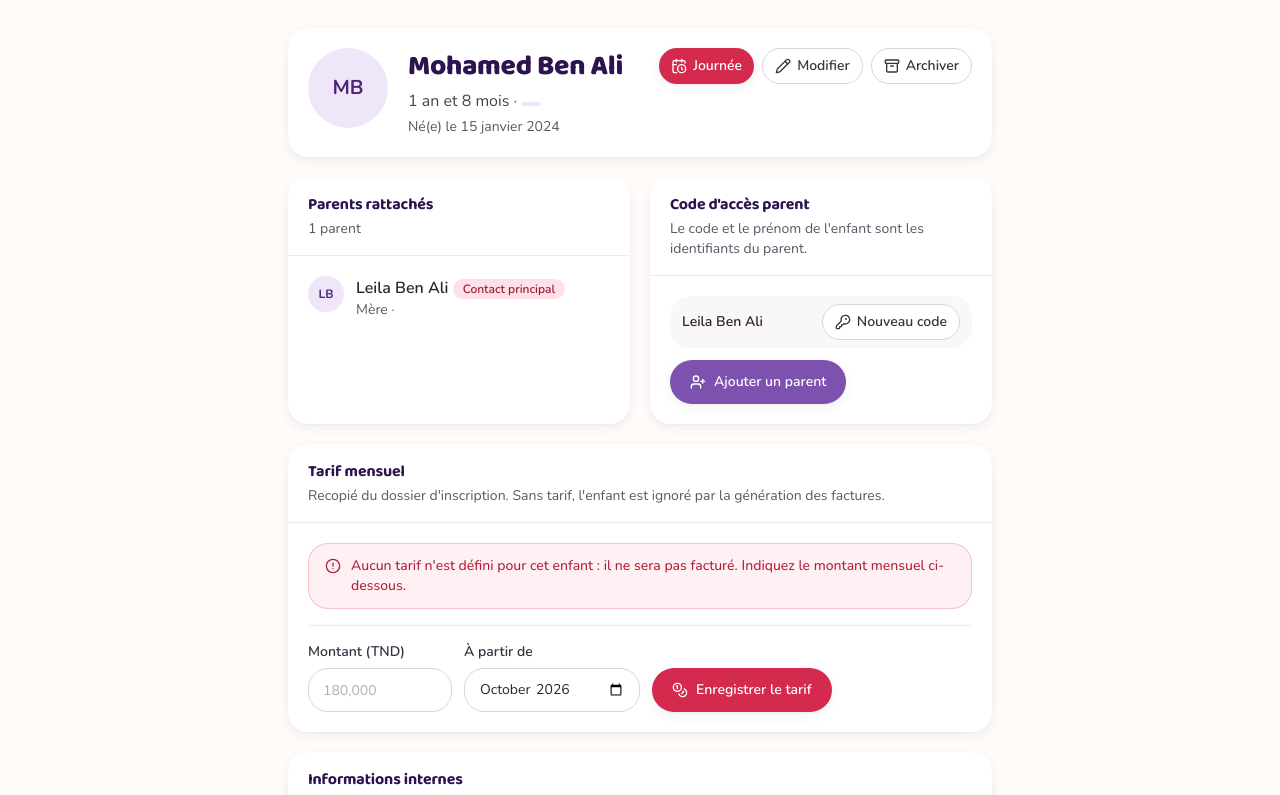
reissuing an access code › shows the code once it is issued
Click the button "Nouveau code" at (891, 322), box [822,304,960,340]
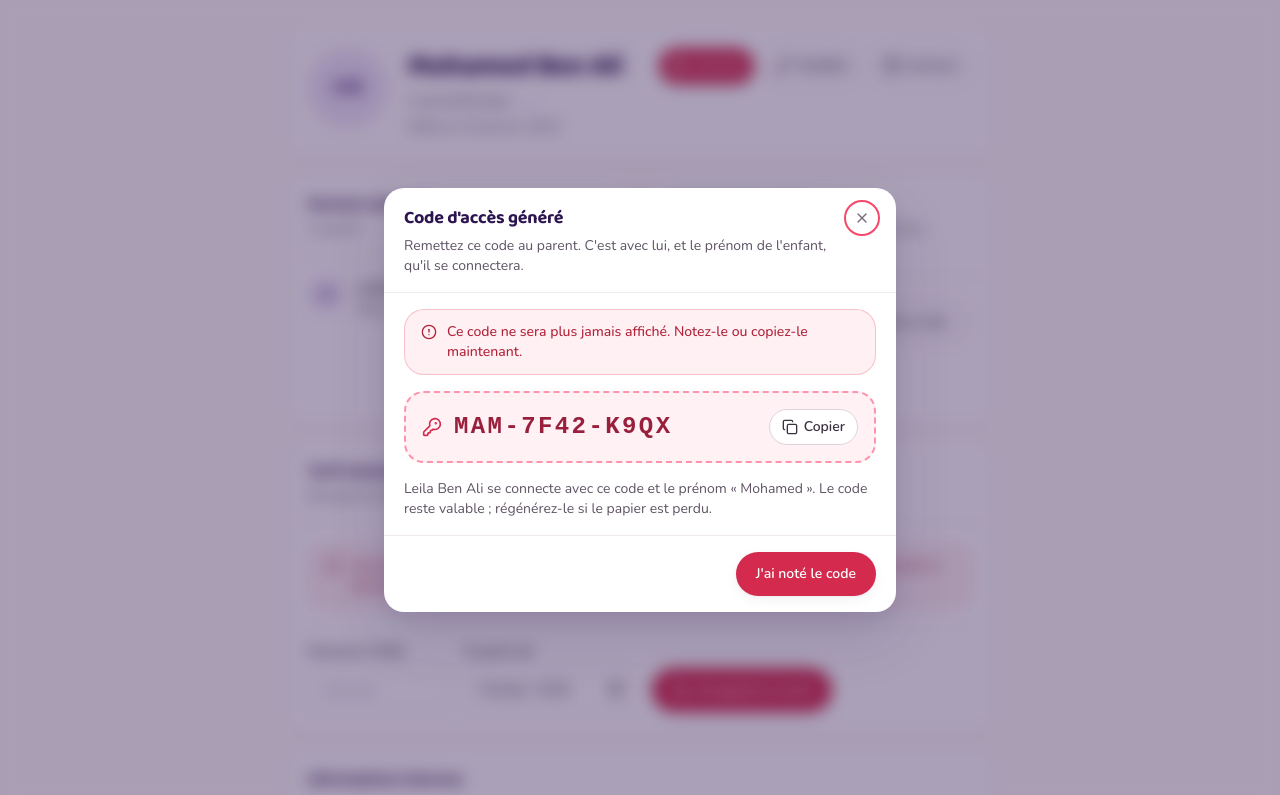
Now the text "MAM-7F42-K9QX" is shown, box [454,413,672,440]
